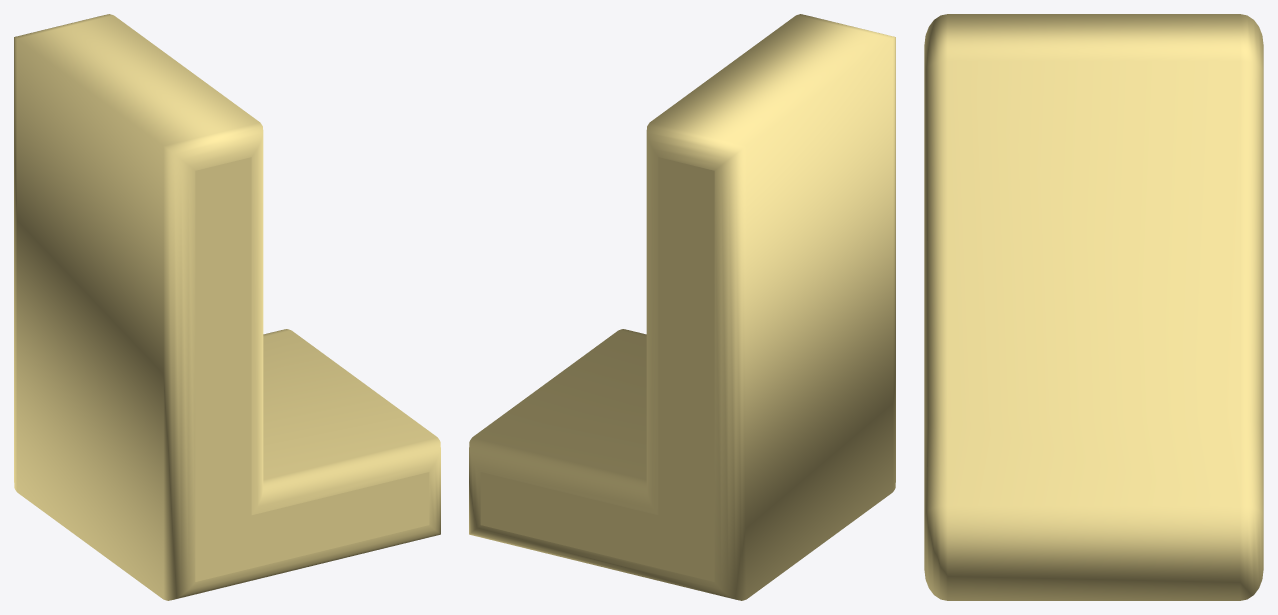
File: letter_L.glb
The picture shows the model from 3 angles, left to right: view 1: azimuth 30°, elevation 25°; view 2: azimuth 150°, elevation 25°; view 3: azimuth 270°, elevation 25°; orthographic projection.
Parts seen in each view (by area): view 1: Text; view 2: Text; view 3: Text.
Part boxes in pixels (x1,y1,x2,y2): Text: (14, 14, 440, 600); Text: (469, 14, 895, 600); Text: (924, 14, 1263, 600).
Bounding box in the file's own units: 0.476 × 0.752 × 0.51.
